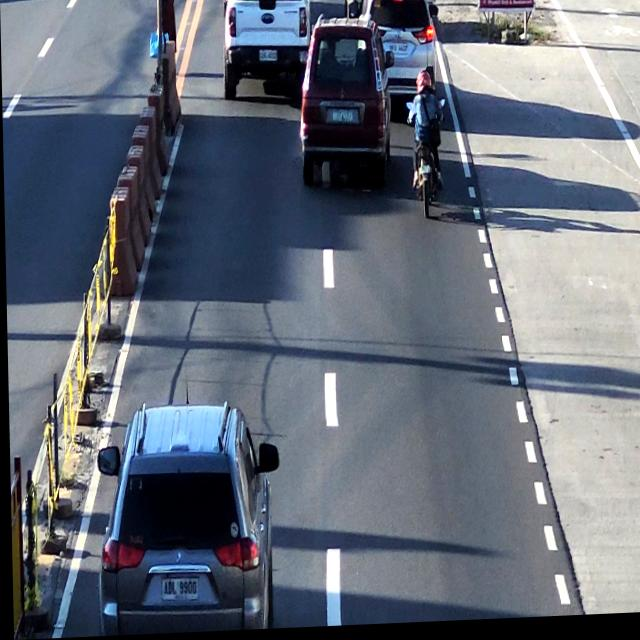Car: (94, 404, 270, 637), (296, 30, 381, 186), (218, 0, 309, 95), (360, 0, 438, 94)
License-Plate: (159, 573, 195, 602), (387, 41, 407, 62), (330, 109, 354, 126), (256, 51, 278, 66)
Motorcycle: (410, 74, 443, 224)
